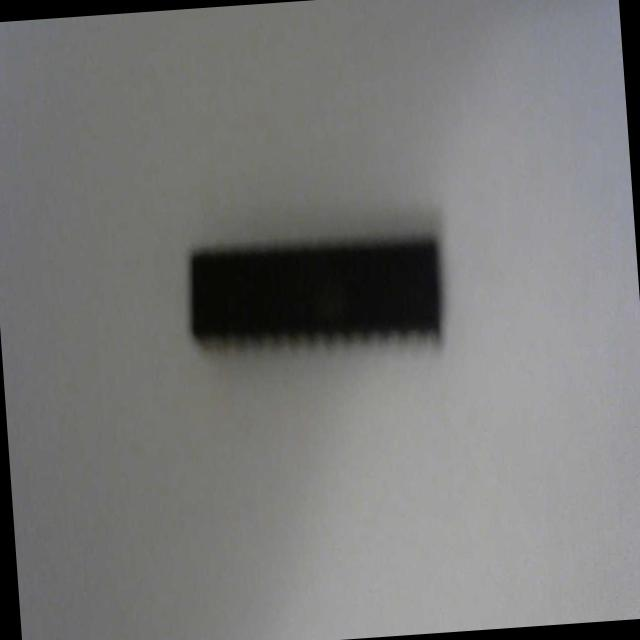atmega: (181, 222, 449, 368)
